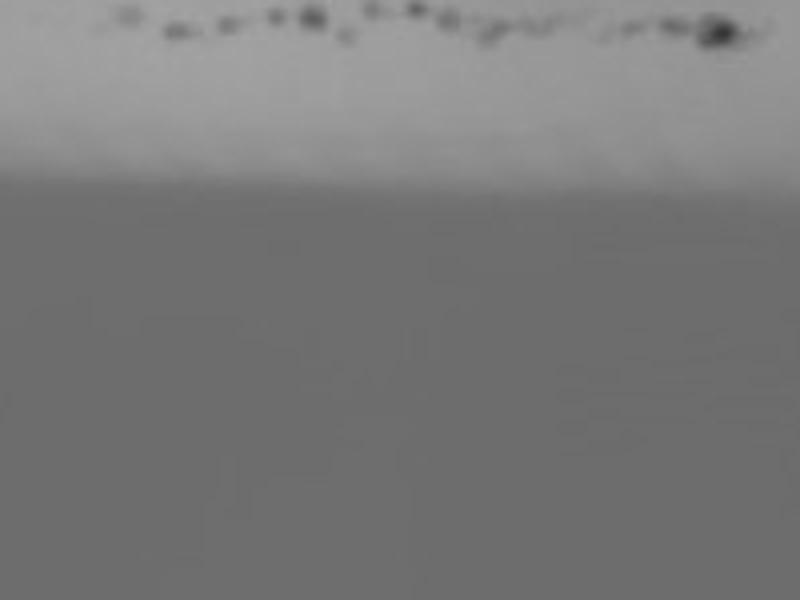defect: (696, 16, 742, 56), (113, 3, 144, 31), (298, 4, 326, 33), (518, 18, 547, 45), (163, 20, 198, 42), (436, 7, 462, 35), (617, 17, 644, 42), (660, 18, 692, 39), (489, 18, 513, 44), (360, 2, 387, 25), (594, 25, 615, 53), (543, 11, 566, 34), (219, 16, 240, 41), (403, 1, 429, 21), (87, 18, 112, 38), (474, 31, 496, 53), (337, 23, 356, 48), (265, 7, 284, 30)
